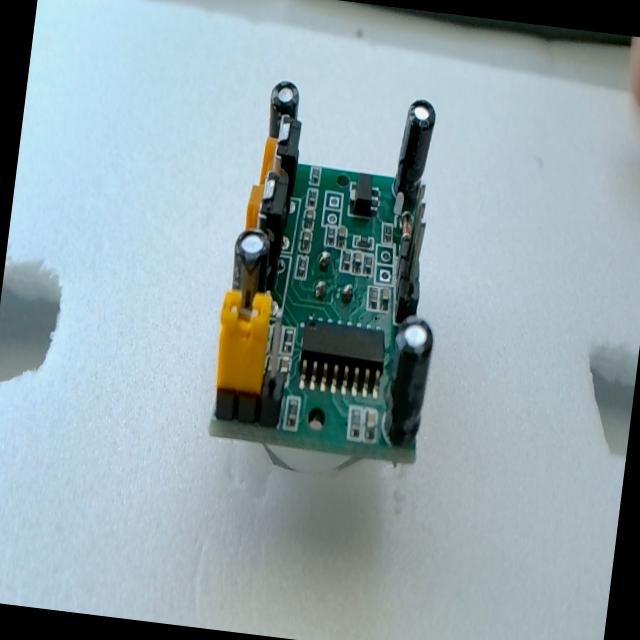Electrolytic capacitor: (379, 314, 436, 449), (382, 93, 449, 203), (227, 225, 273, 308), (264, 79, 301, 139)
IC: (296, 318, 388, 396)
pinheader: (390, 185, 433, 318)
